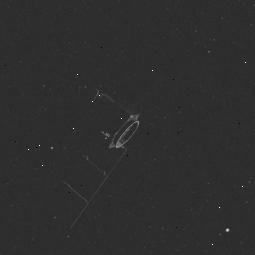earth_observation_sat_1: (70, 87, 148, 162)
